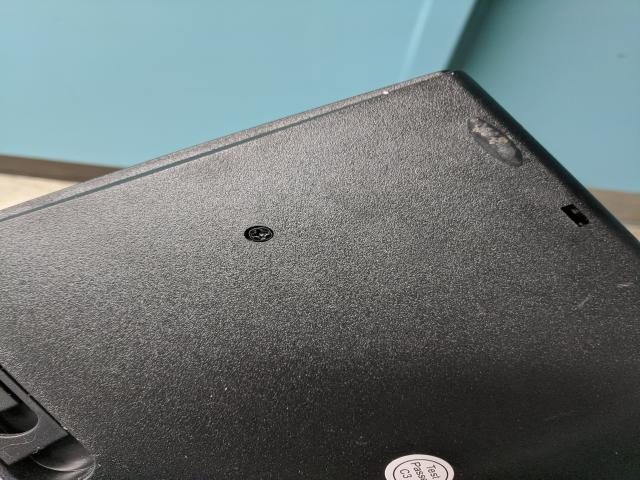CRS: (243, 226, 273, 242)
